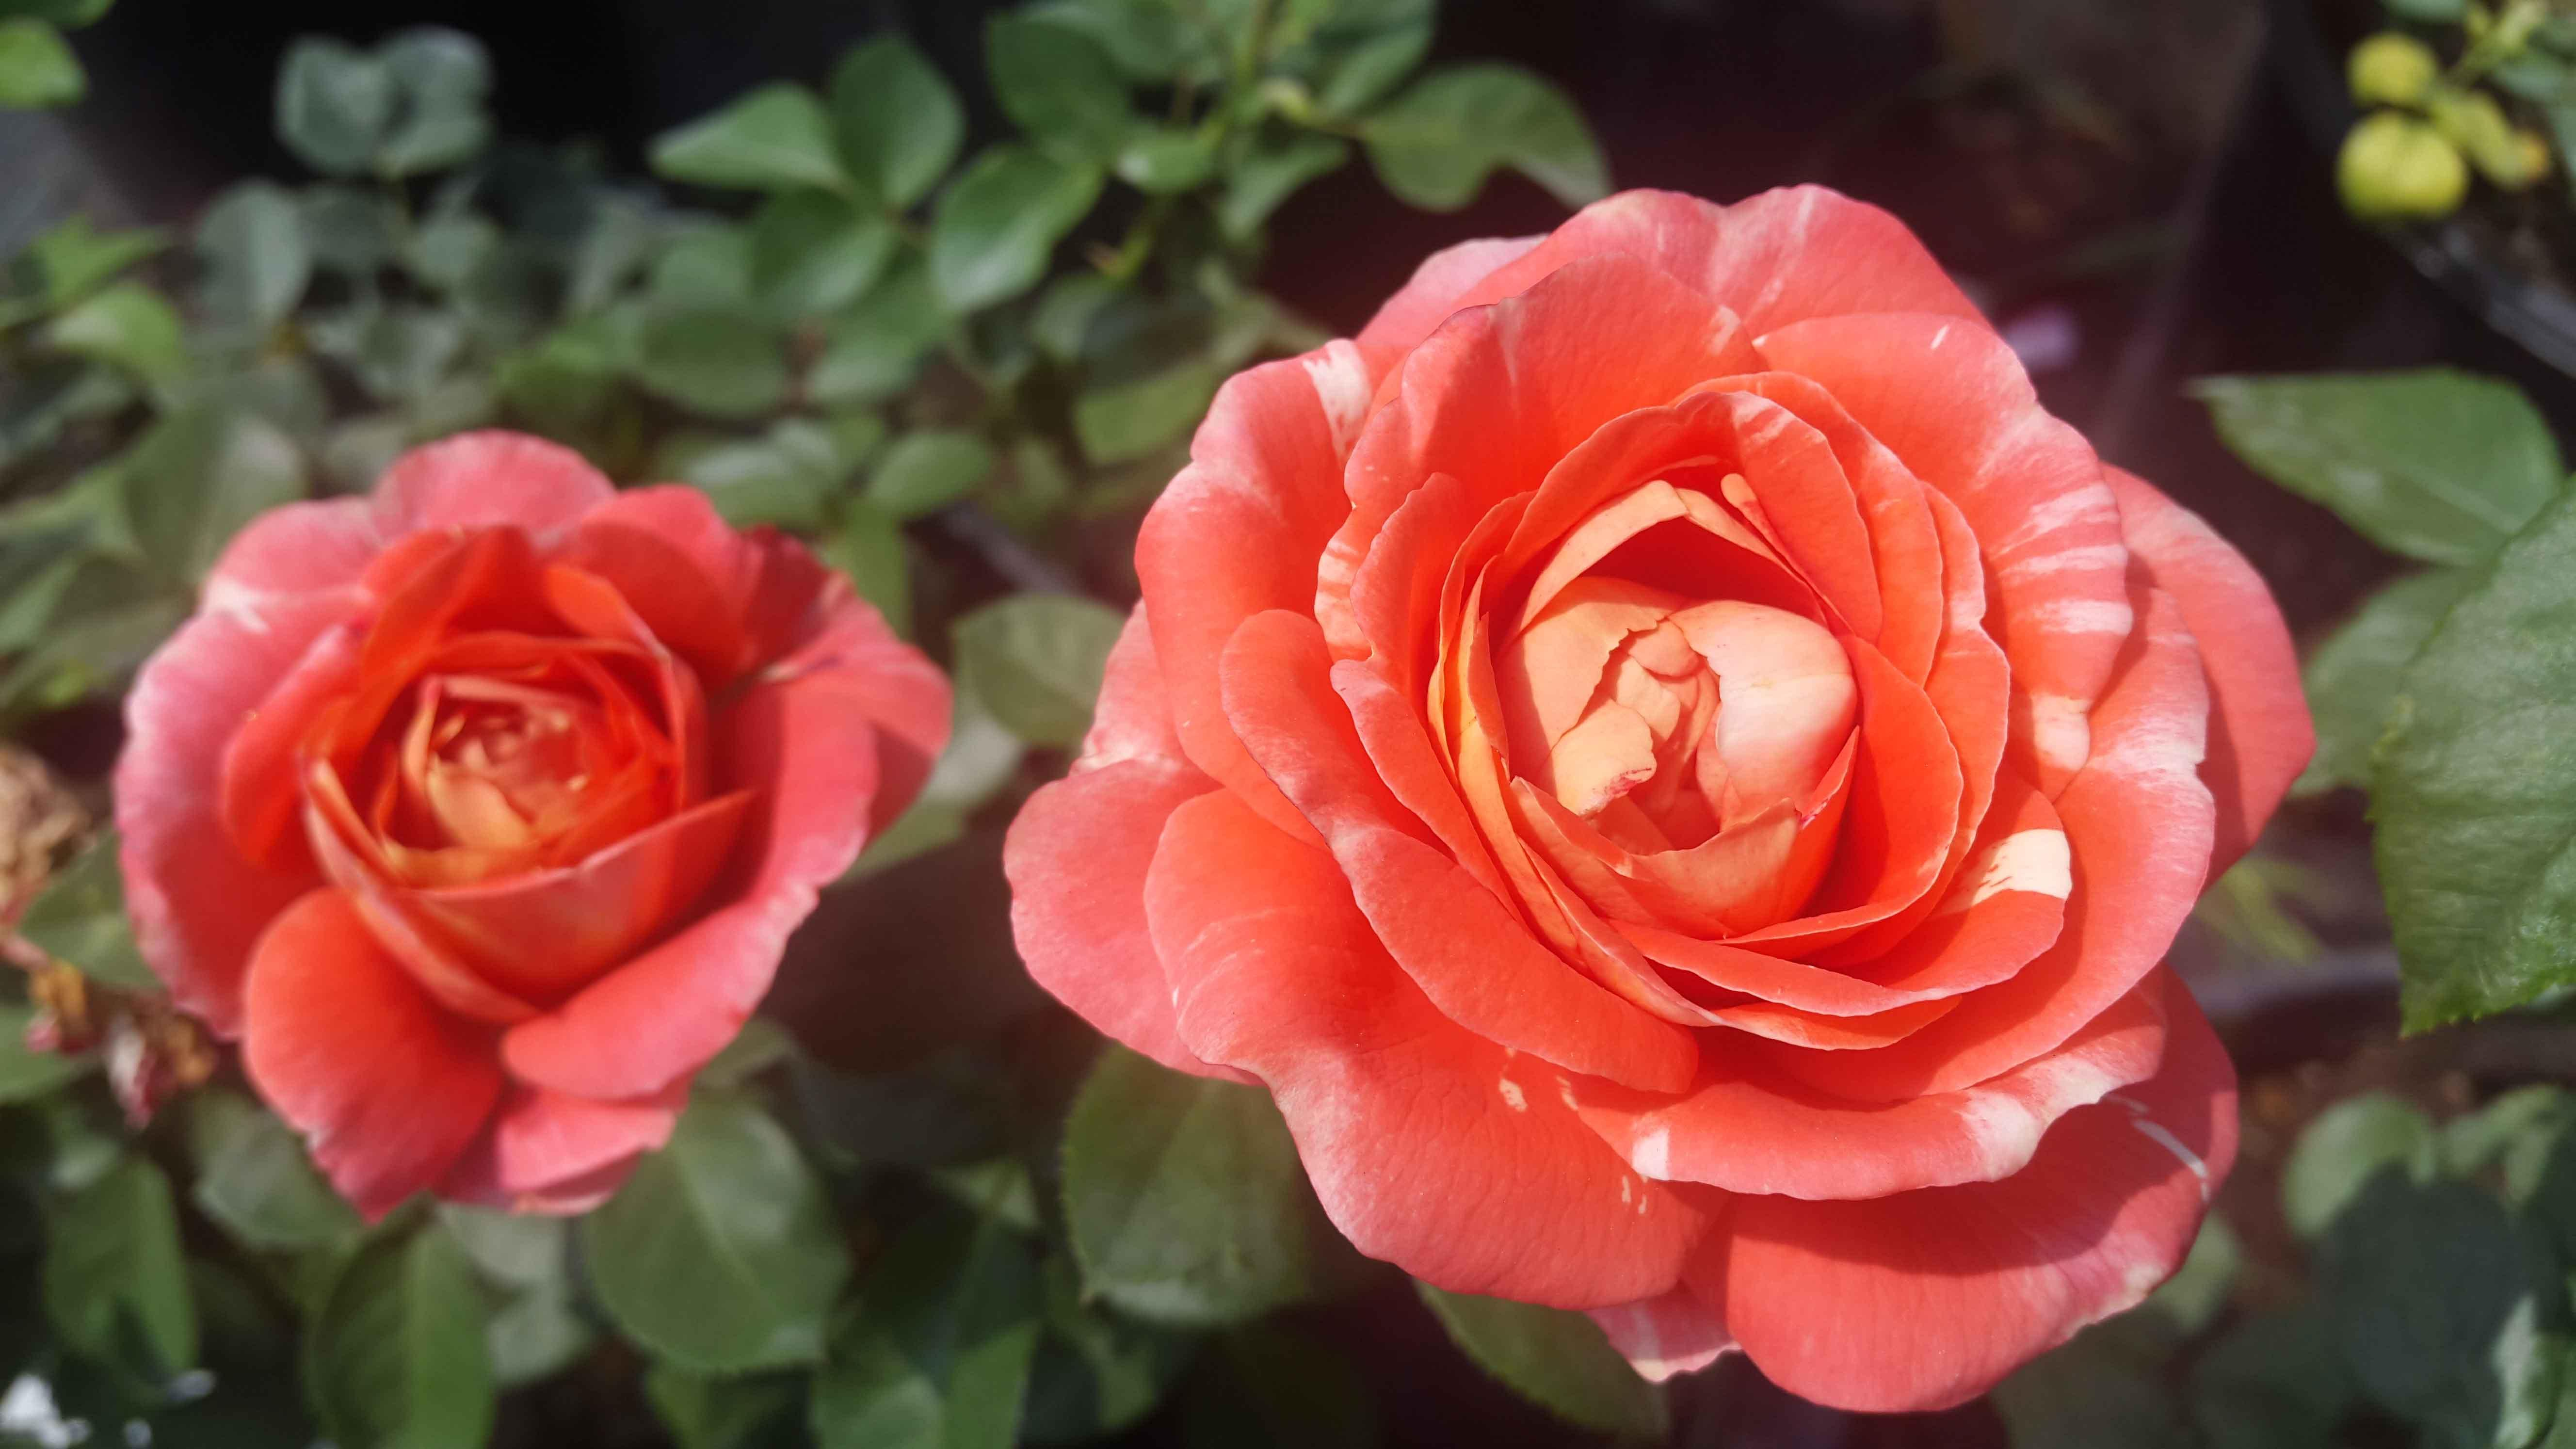Rose: (1008, 173, 2311, 1437), (88, 403, 948, 1242)
